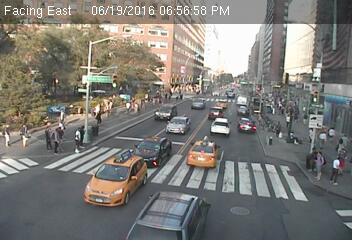neg: (253, 61, 268, 80), (280, 70, 294, 88), (255, 102, 267, 119), (73, 103, 85, 119), (48, 80, 59, 94), (266, 134, 276, 148), (144, 99, 152, 110), (287, 132, 295, 142)
pos: (326, 154, 351, 188), (44, 124, 68, 156), (308, 151, 331, 181), (66, 125, 88, 154), (303, 144, 323, 171), (15, 124, 33, 148), (38, 127, 55, 150), (325, 122, 341, 142), (334, 136, 349, 156), (316, 128, 330, 146), (335, 155, 348, 173), (93, 108, 106, 126), (120, 98, 133, 115), (340, 132, 351, 151), (283, 113, 295, 128), (106, 99, 117, 113), (102, 100, 112, 113)
